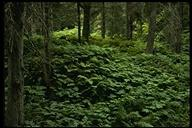tree: (4, 3, 189, 125)
